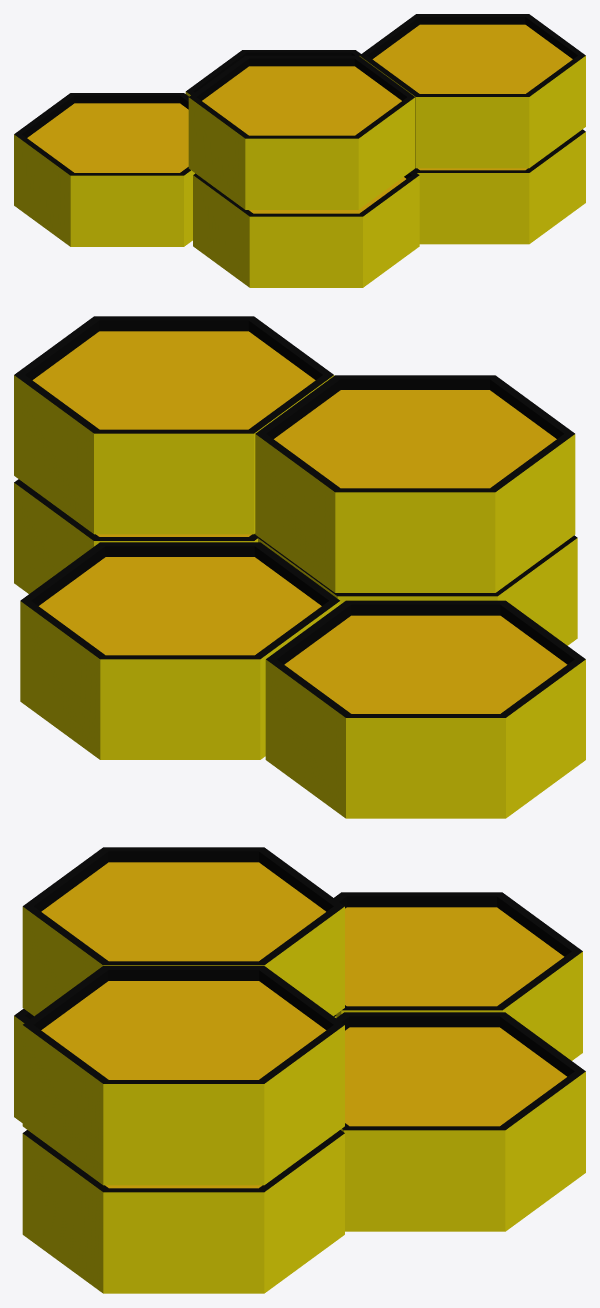
File: FavoMel.fbx
3 views of the same model, one above another, from view 1: azimuth 30°, elevation 25°; view 2: azimuth 150°, elevation 25°; view 3: azimuth 270°, elevation 25° (orthographic). The views are drawn at different scales.
Parts seen in each view (by area): view 1: Cylinder.015, Cylinder.014, Cylinder.013, Cylinder.012, Cylinder.011, Cylinder.010; view 2: Cylinder.013, Cylinder.015, Cylinder.010, Cylinder.014, Cylinder.011, Cylinder.012; view 3: Cylinder.014, Cylinder.010, Cylinder.015, Cylinder.011, Cylinder.013, Cylinder.012.
Part boxes in pixels (x1,y1,x2,y2): Cylinder.015: (188,55,415,209); Cylinder.014: (359,14,585,168); Cylinder.013: (14,93,194,246); Cylinder.012: (193,170,419,287); Cylinder.011: (413,129,585,244); Cylinder.010: (185,50,360,96); Cylinder.013: (265,600,585,818); Cylinder.015: (255,375,575,592); Cylinder.010: (20,542,340,759); Cylinder.014: (14,316,334,534); Cylinder.011: (14,479,258,593); Cylinder.012: (258,535,577,645); Cylinder.014: (22,966,344,1185); Cylinder.010: (336,1012,585,1231); Cylinder.015: (22,847,344,1016); Cylinder.011: (22,1130,344,1293); Cylinder.013: (334,892,582,1060); Cylinder.012: (14,1008,336,1122).
Size of the model in its own units: 355 by 144 by 440.
